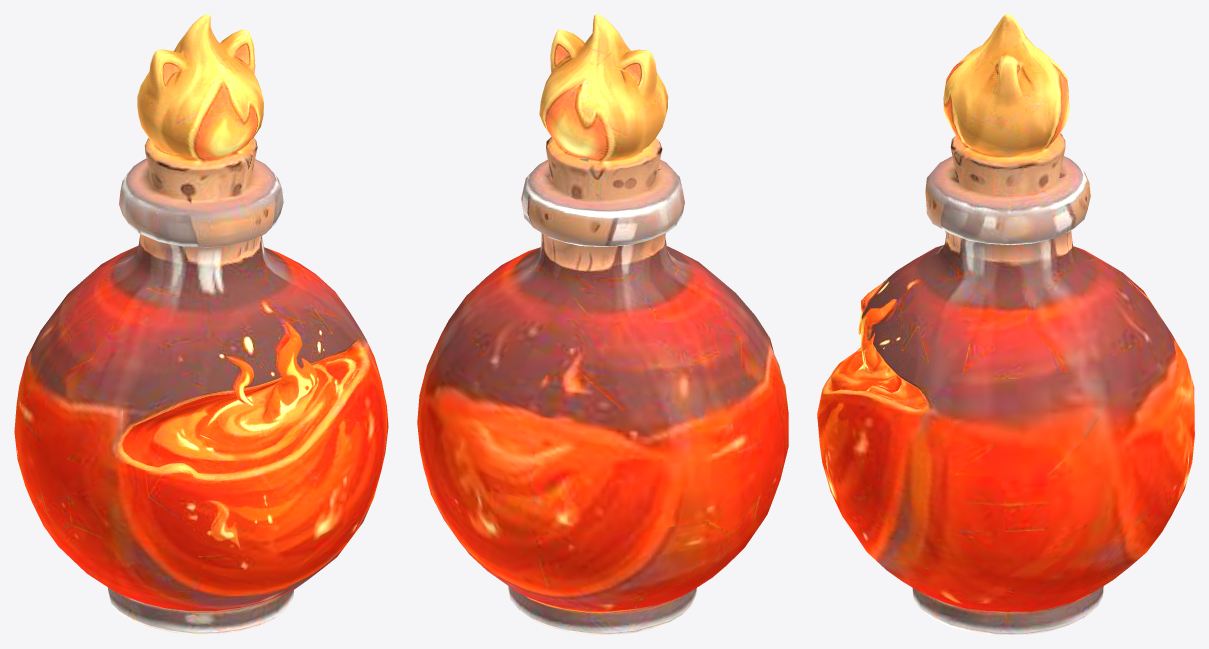
Rendered from pickup_fire.glb.
3 renders of one model, left to right at view 1: azimuth 30°, elevation 25°; view 2: azimuth 150°, elevation 25°; view 3: azimuth 270°, elevation 25°, orthographic.
Parts seen in each view (by area): view 1: pickup_fire; view 2: pickup_fire; view 3: pickup_fire.
Boxes of the visible parts, x1,y1,x2,y2 form: pickup_fire: [14, 14, 388, 634]; pickup_fire: [417, 14, 788, 634]; pickup_fire: [817, 14, 1194, 634].
Bounding box in the file's own units: 0.5826 × 1 × 0.5847.
1 material, 1 textured.
